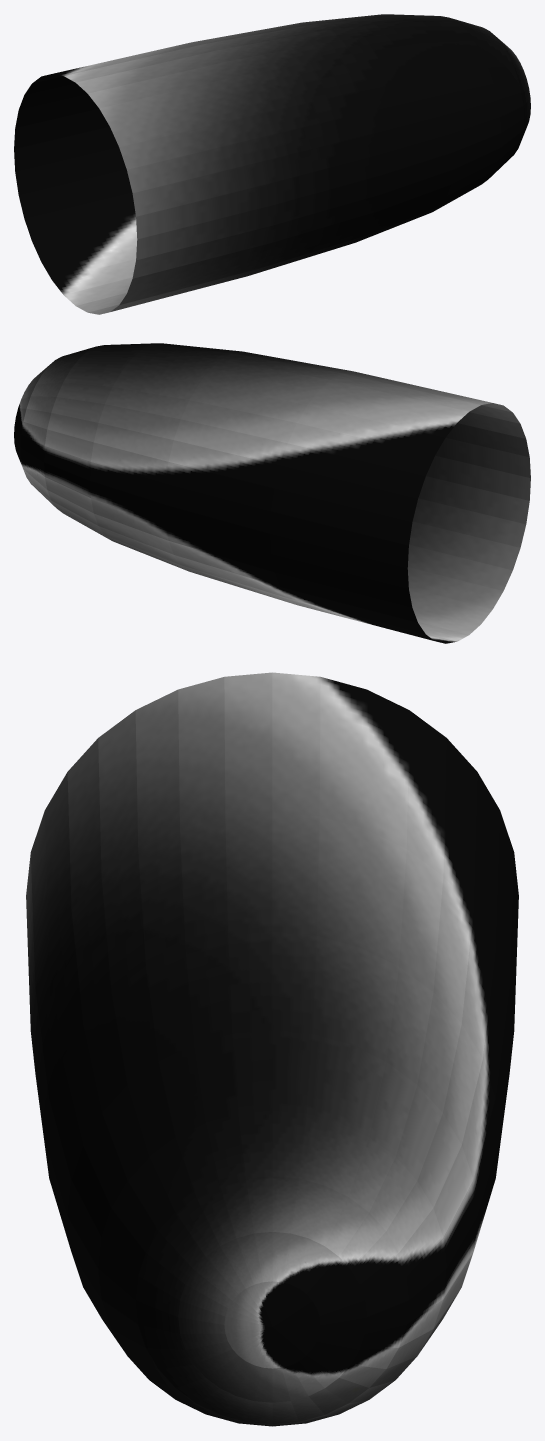
Rendered from 0145_S_FX_yuanzhu_003.glb.
3 renders of one model, top to bottom at view 1: azimuth 30°, elevation 25°; view 2: azimuth 150°, elevation 25°; view 3: azimuth 270°, elevation 25°, orthographic. The views are drawn at different scales.
Bounding box in the file's own units: 2.2 × 1.06 × 1.06.
Materials: 1 (1 with a texture image).
